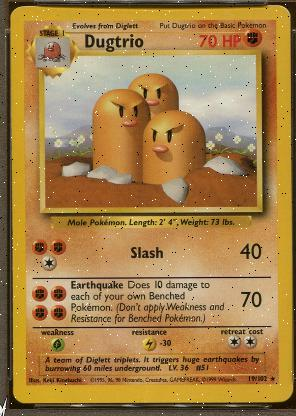Card: (9, 0, 293, 412)
